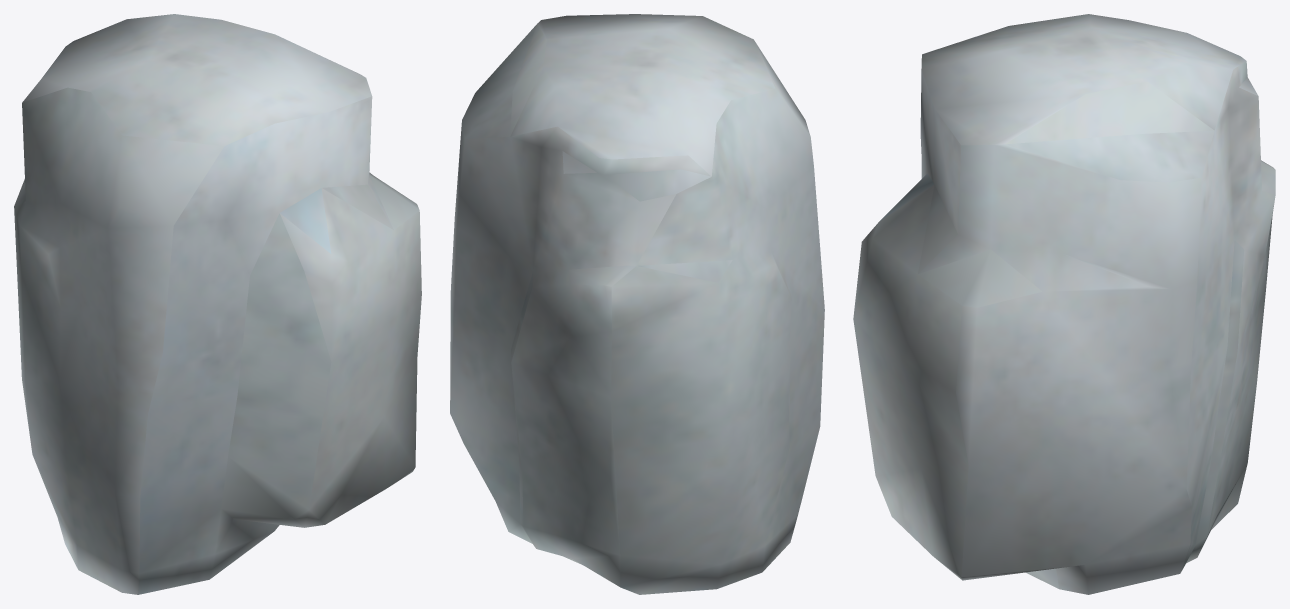
File: P_RockSpire_Rock19.obj
The picture shows the model from 3 angles, left to right: view 1: azimuth 30°, elevation 25°; view 2: azimuth 150°, elevation 25°; view 3: azimuth 270°, elevation 25°; orthographic projection. The views are drawn at different scales.
Size of the model in its own units: 11.32 by 16.42 by 12.12.
